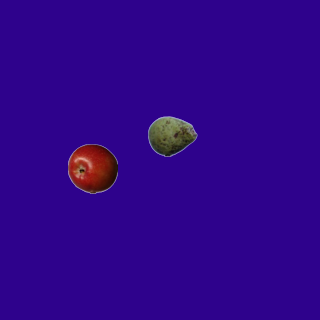Apple Braeburn: (67, 143, 117, 193)
Pear Stone: (147, 111, 197, 161)
